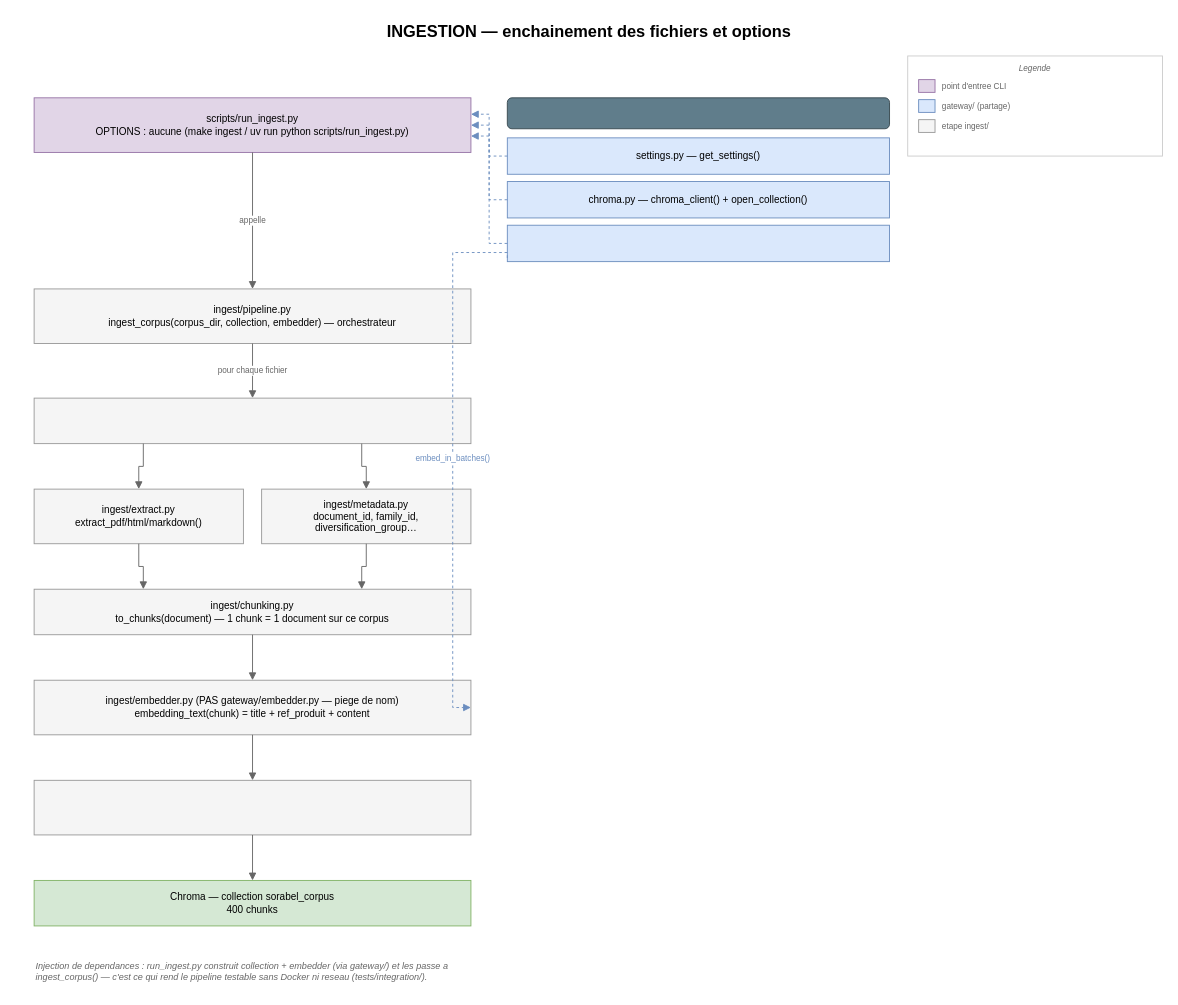
This 1178x1005 diagram has some shape labels left out. Here are the shapes that lost their labels. From the top down, the centre of each, then its label:
point 698,113: gateway/ (partage ingest + retrieval)
point 698,243: embedder.py — AzureEmbedder + embed_in_batches()
point 252,420: ingest/build.py build_document(path) — par fichier source
point 252,807: ingest/store.py chroma_metadata(chunk) + upsert_chunks() — idempotent
